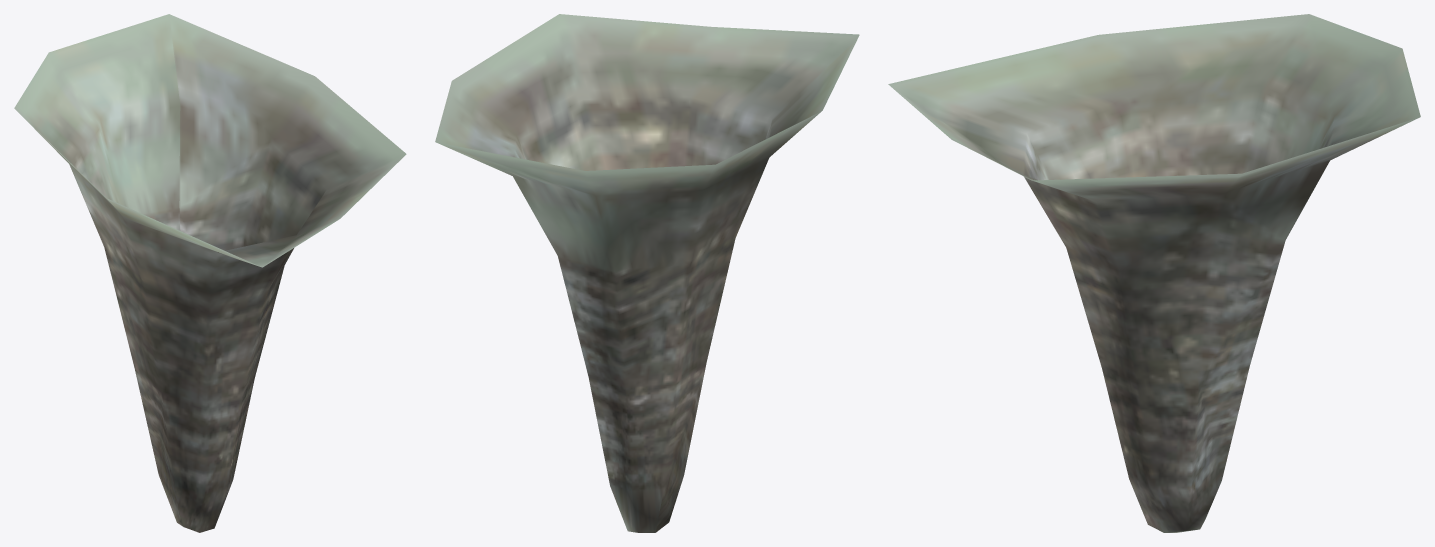
Rendered from TROLLHOLE02_PS-MAINSTALAG.fbx.
3 views of the same model, side by side, from view 1: azimuth 30°, elevation 25°; view 2: azimuth 150°, elevation 25°; view 3: azimuth 270°, elevation 25° (orthographic). The views are drawn at different scales.
Parts seen in each view (by area): view 1: TROLLHOLE02_PS-MAINSTALAG; view 2: TROLLHOLE02_PS-MAINSTALAG; view 3: TROLLHOLE02_PS-MAINSTALAG.
Boxes of the visible parts, left/top/right/bottom form: TROLLHOLE02_PS-MAINSTALAG: left=14, top=14, right=406, bottom=532; TROLLHOLE02_PS-MAINSTALAG: left=435, top=14, right=859, bottom=532; TROLLHOLE02_PS-MAINSTALAG: left=888, top=14, right=1420, bottom=532.
Bounding box in the file's own units: 20607 × 29978 × 31413.
1 material, 1 textured.
